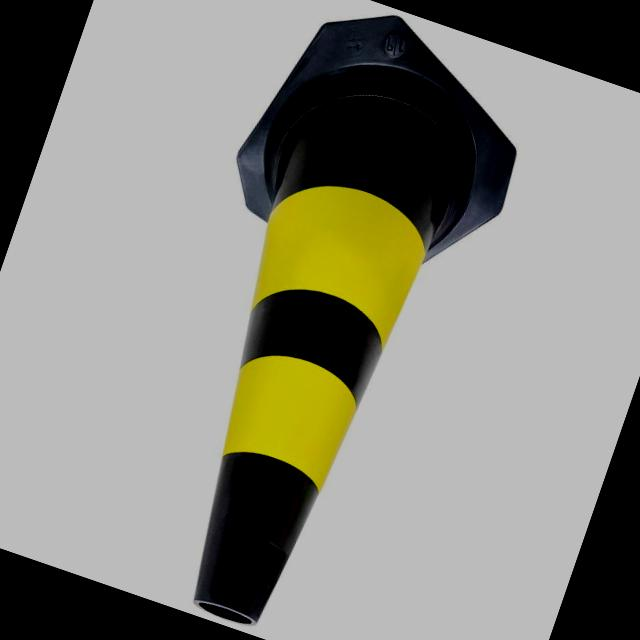cone: (97, 0, 532, 640)
